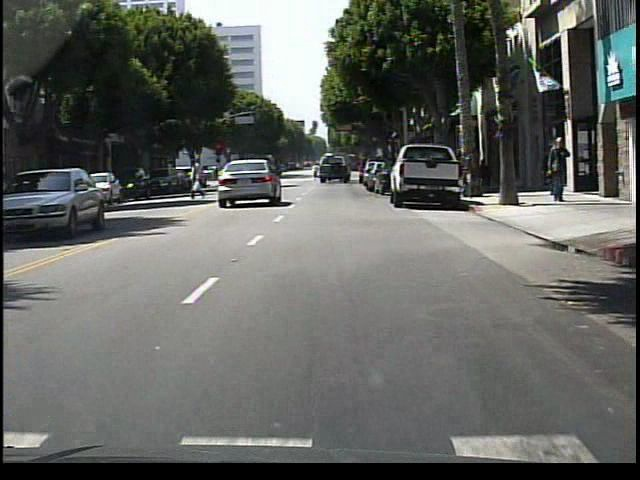person: (546, 134, 571, 202), (541, 145, 558, 200), (189, 156, 207, 201), (313, 161, 321, 183)
